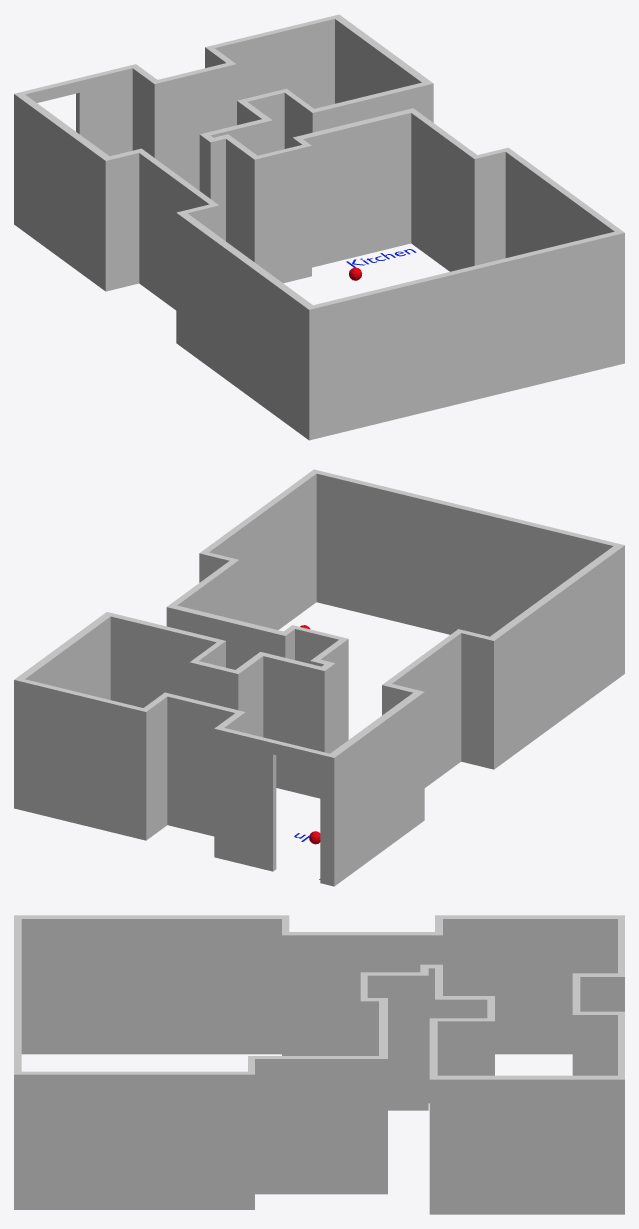
File: Navmesh.glb
The picture shows the model from 3 angles, top to bottom: view 1: azimuth 30°, elevation 25°; view 2: azimuth 150°, elevation 25°; view 3: azimuth 270°, elevation 25°; orthographic projection. The views are drawn at different scales.
Visible parts, largest first — view 1: SM_Room; view 2: SM_Room; view 3: SM_Room.
Part boxes in pixels (x1,y1,x2,y2): SM_Room: (14, 14, 624, 440); SM_Room: (14, 469, 624, 886); SM_Room: (14, 915, 624, 1214).
Size of what is drawn, in the model's own units: 5.47 by 2.2 by 8.6.
Materials: 4 (2 with a texture image).
